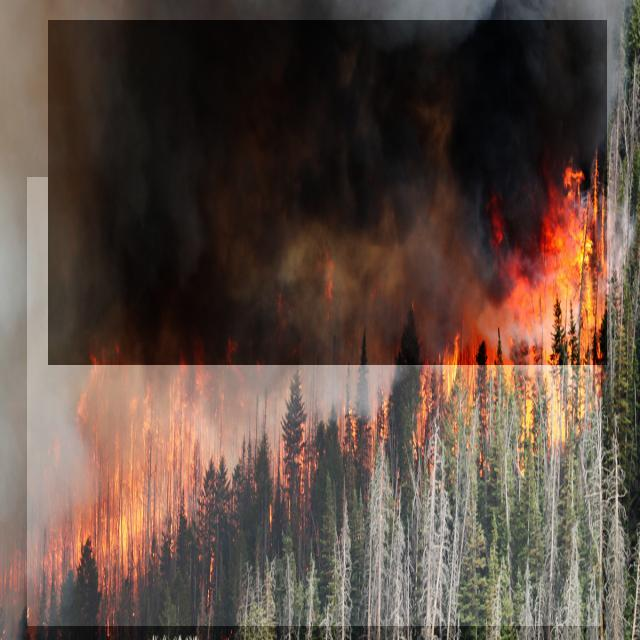Fire: (27, 177, 601, 626)
Smoke: (48, 20, 607, 365)
